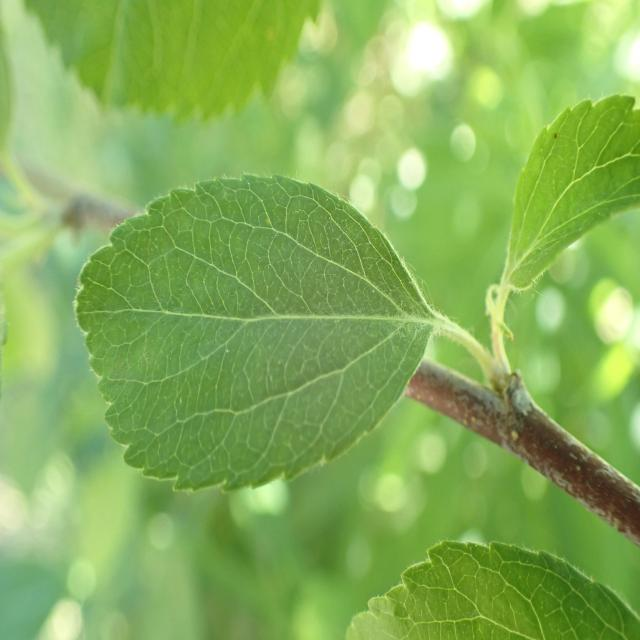healthy: (74, 172, 457, 494), (23, 0, 324, 124), (347, 539, 640, 640), (503, 93, 640, 292)
